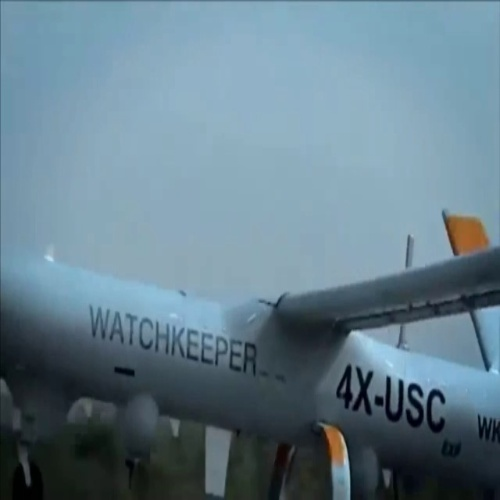uav797: (9, 215, 500, 493)
